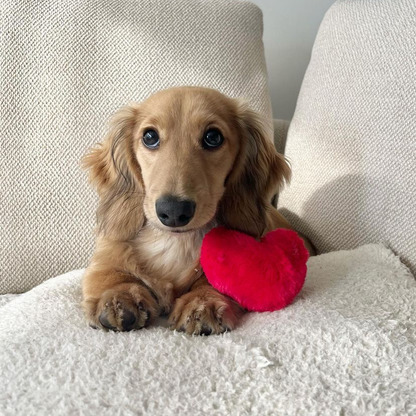dachshund: (67, 86, 329, 343)
